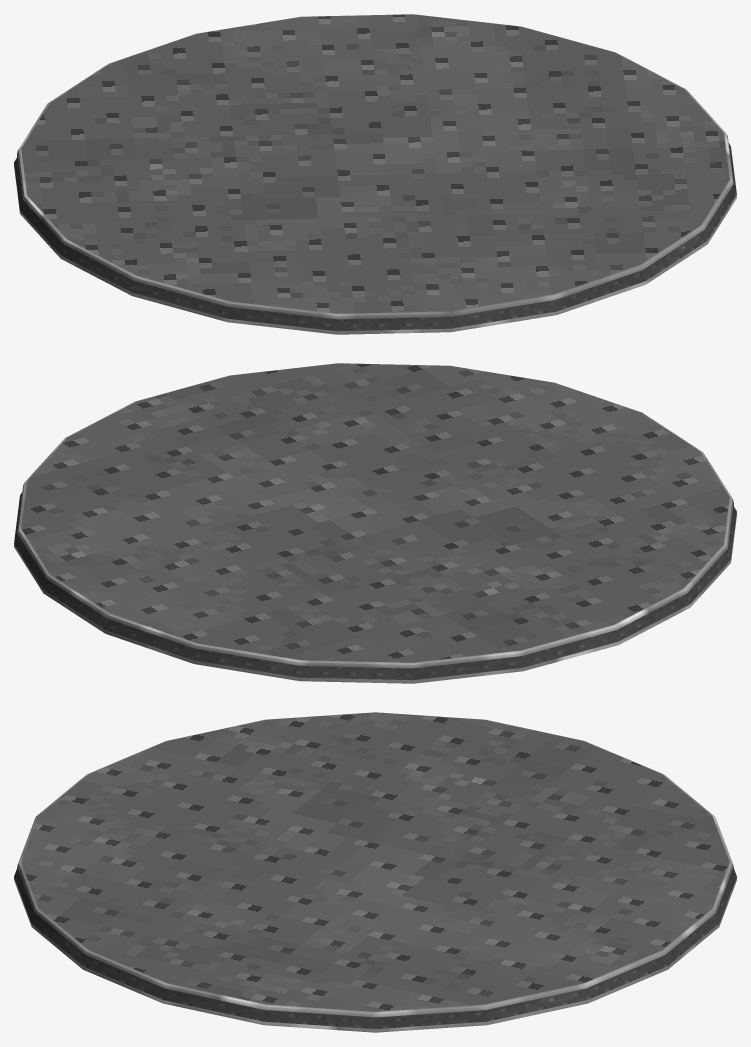
File: round.fbx
3 views of the same model, one above another, from view 1: azimuth 30°, elevation 25°; view 2: azimuth 150°, elevation 25°; view 3: azimuth 270°, elevation 25° (orthographic).
Visible parts, largest first — view 1: round; view 2: round; view 3: round.
Part boxes in pixels (x1,y1,x2,y2): round: (14, 14, 736, 334); round: (14, 363, 736, 683); round: (14, 712, 736, 1032).
Size of the model in its own units: 23.09 by 0.6952 by 23.09.
